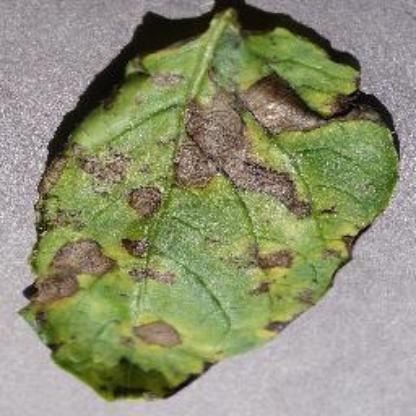Early-Blight: (22, 11, 404, 403)
